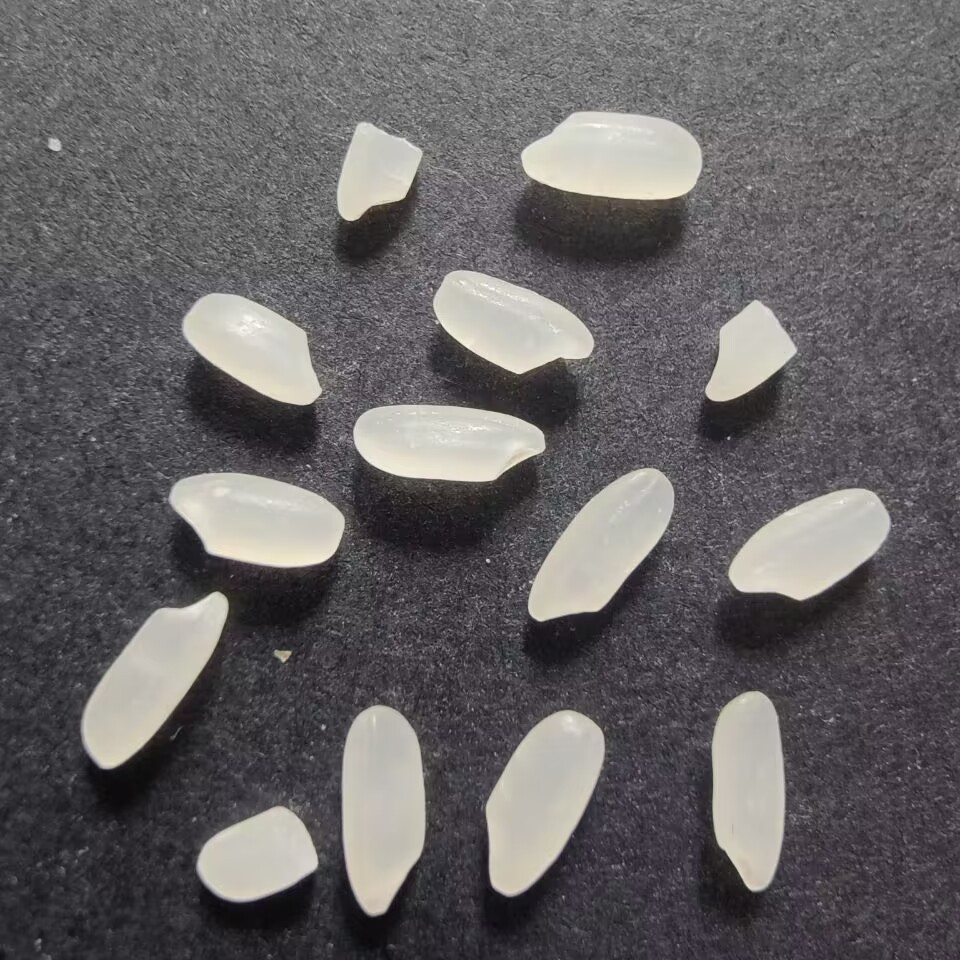broken: (191, 799, 321, 908), (700, 294, 803, 407), (330, 117, 426, 232)
rice: (77, 585, 233, 777), (479, 705, 610, 901), (522, 462, 679, 625), (334, 699, 432, 925), (723, 480, 895, 601), (160, 468, 350, 573), (704, 683, 795, 898), (514, 105, 707, 206), (429, 265, 599, 379), (174, 285, 330, 409), (349, 400, 550, 486)
